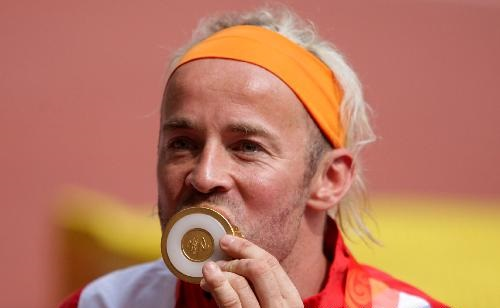face: (155, 78, 305, 283)
